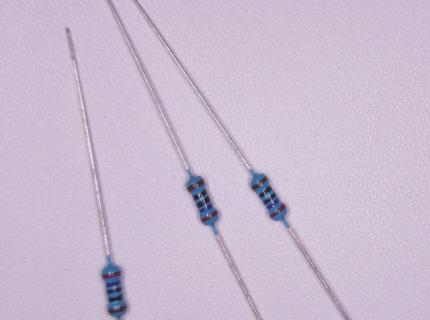Black band: (257, 185, 273, 198), (263, 192, 277, 206), (192, 189, 208, 201), (197, 196, 211, 209), (107, 294, 124, 303), (107, 287, 123, 295)
Brown band: (252, 176, 269, 191), (187, 179, 206, 192), (108, 305, 127, 314)
Red band: (270, 204, 286, 218), (201, 210, 218, 223), (103, 270, 121, 278)
Violet band: (266, 198, 280, 210), (200, 203, 213, 213), (106, 280, 120, 287)
